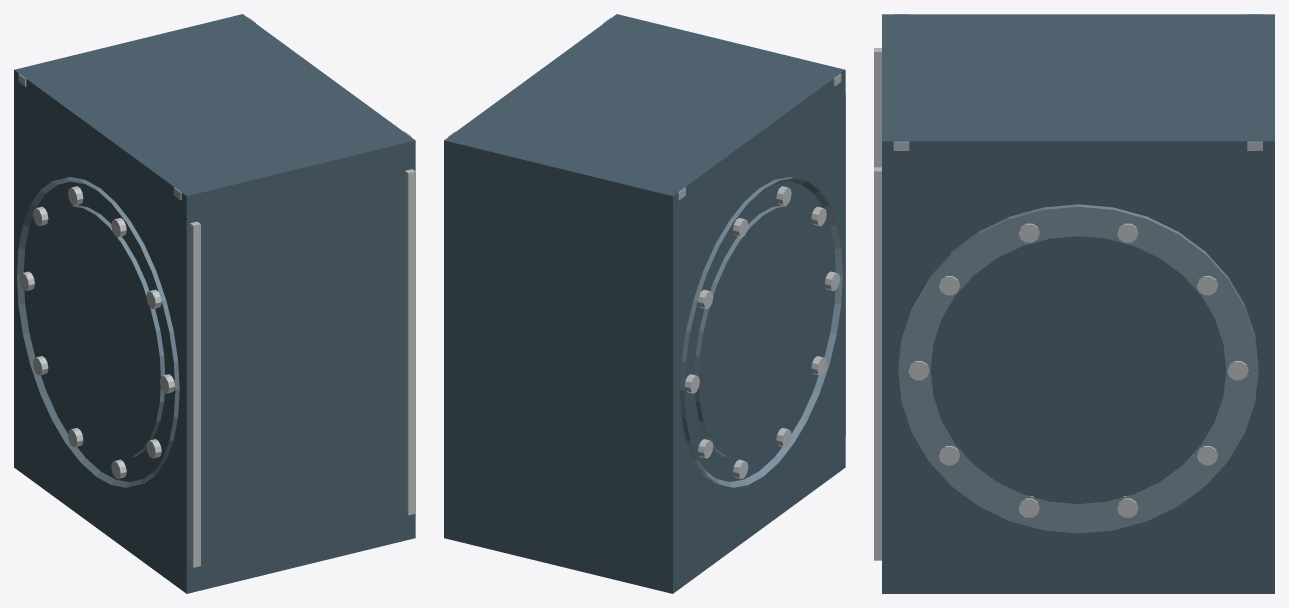
File: 16_L75_FastBeamBlankingGate.glb
3 views of the same model, side by side, from view 1: azimuth 30°, elevation 25°; view 2: azimuth 150°, elevation 25°; view 3: azimuth 270°, elevation 25° (orthographic). The views are drawn at different scales.
Visible parts, largest first — view 1: FastBeamBlankingGate_Node_0000, FastBeamBlankingGate_Node_0009, FastBeamBlankingGate_Node_0005, FastBeamBlankingGate_Node_0006; view 2: FastBeamBlankingGate_Node_0000, FastBeamBlankingGate_Node_0009; view 3: FastBeamBlankingGate_Node_0000, FastBeamBlankingGate_Node_0020, FastBeamBlankingGate_Node_0006, FastBeamBlankingGate_Node_0005.
Part boxes in pixels (x1=…): FastBeamBlankingGate_Node_0000: x1=14, y1=14, x2=415, y2=593; FastBeamBlankingGate_Node_0009: x1=17, y1=177, x2=179, y2=487; FastBeamBlankingGate_Node_0005: x1=190, y1=221, x2=200, y2=567; FastBeamBlankingGate_Node_0006: x1=405, y1=169, x2=415, y2=515; FastBeamBlankingGate_Node_0000: x1=444, y1=14, x2=845, y2=593; FastBeamBlankingGate_Node_0009: x1=680, y1=177, x2=842, y2=487; FastBeamBlankingGate_Node_0000: x1=882, y1=14, x2=1274, y2=593; FastBeamBlankingGate_Node_0020: x1=898, y1=204, x2=1258, y2=533; FastBeamBlankingGate_Node_0006: x1=874, y1=167, x2=881, y2=560; FastBeamBlankingGate_Node_0005: x1=874, y1=48, x2=881, y2=167.
Size of the model in its own units: 0.685 by 1.08 by 0.8671.
